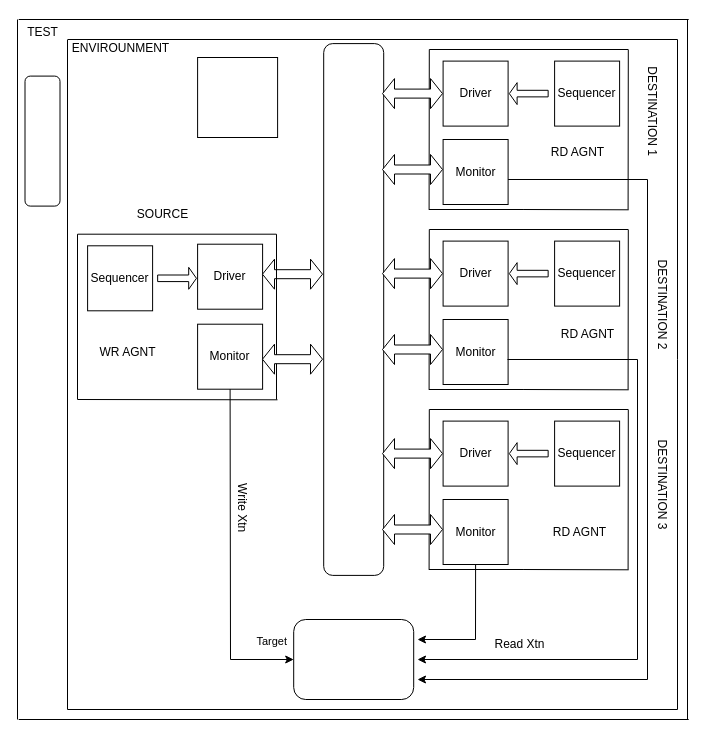
This 708x738 diagram has some shape labels left out. The shapes that lost their labels are listed below. From the top down, each one's box as (x1, y1, x2, y2) in pixels, then its label:
(197, 56, 278, 138): Virtual Sequencer
(24, 75, 60, 206): VIRTUAL SEQUENCE
(323, 43, 384, 575): Router 1X3
(293, 618, 414, 700): SCORE BOARD
